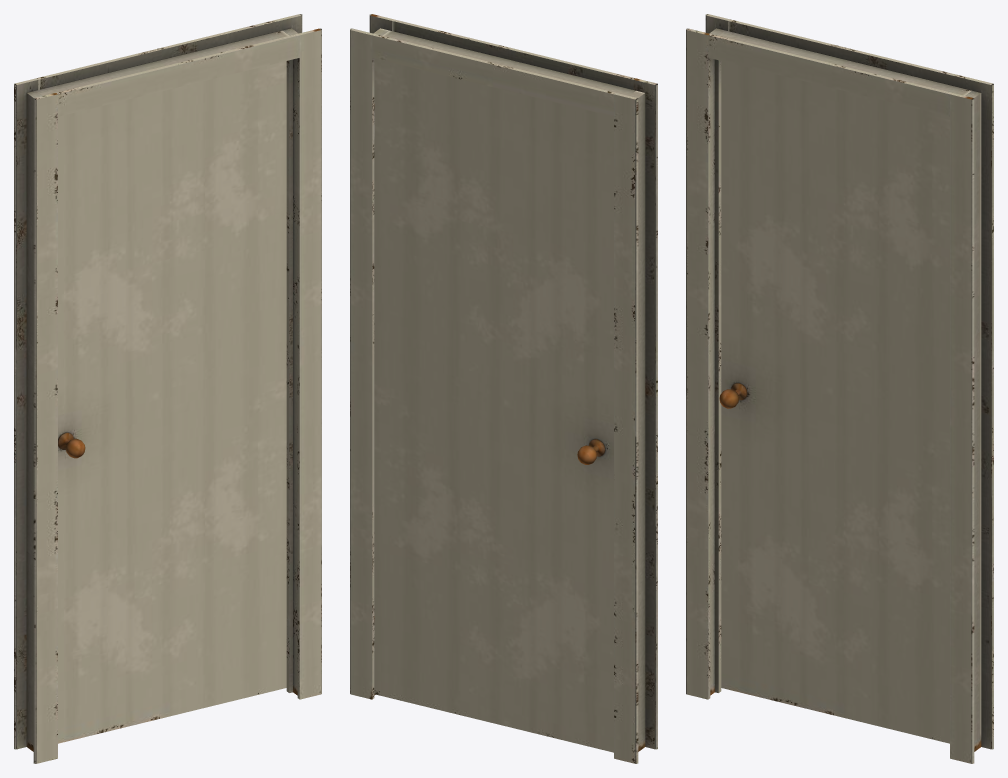
The model's file is door_flat_web.glb.
3 views of the same model, side by side, from view 1: azimuth 30°, elevation 25°; view 2: azimuth 150°, elevation 25°; view 3: azimuth 330°, elevation 25° (orthographic).
Parts seen in each view (by area): view 1: Door_Mesh, DoorFlat_Frame; view 2: Door_Mesh, DoorFlat_Frame; view 3: Door_Mesh, DoorFlat_Frame.
Boxes of the visible parts, <box> form: Door_Mesh: <box>58,61,286,743</box>; DoorFlat_Frame: <box>14,14,321,763</box>; Door_Mesh: <box>374,58,613,752</box>; DoorFlat_Frame: <box>350,14,657,763</box>; Door_Mesh: <box>719,61,949,743</box>; DoorFlat_Frame: <box>686,14,993,763</box>.
Bounding box in the file's own units: 0.9419 × 2.07 × 0.212.
Materials: 1 (1 with a texture image).
